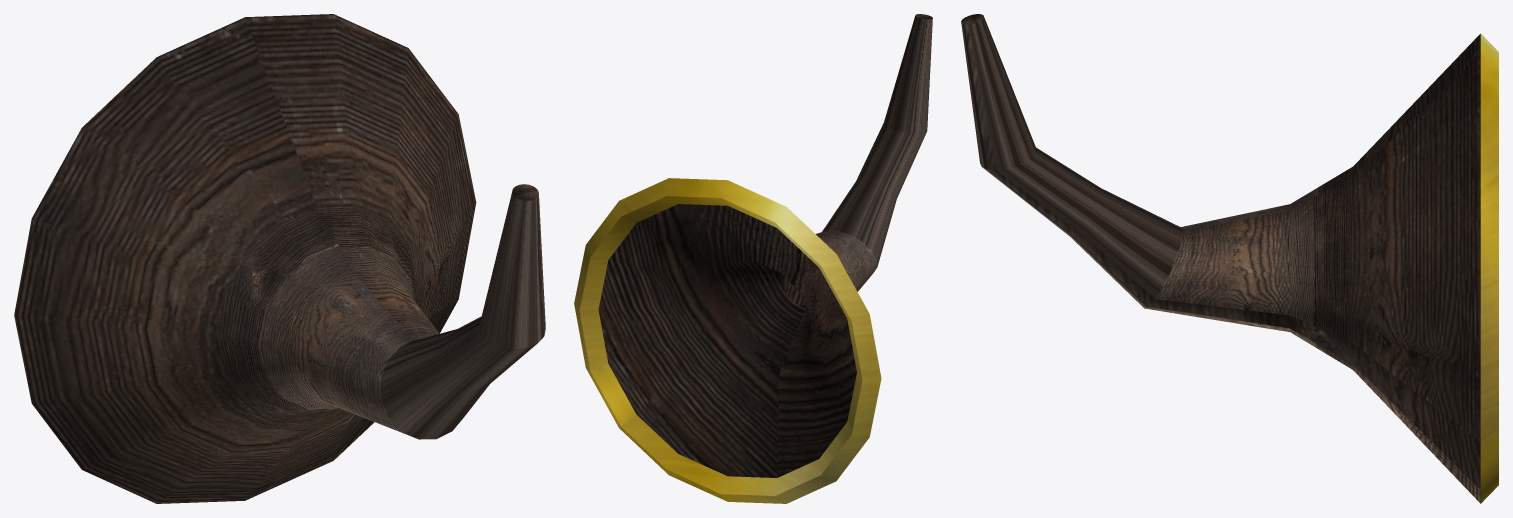
File: perifono.fbx
3 views of the same model, side by side, from view 1: azimuth 30°, elevation 25°; view 2: azimuth 150°, elevation 25°; view 3: azimuth 270°, elevation 25° (orthographic). The views are drawn at different scales.
Visible parts, largest first — view 1: Cylinder; view 2: Cylinder; view 3: Cylinder.
Boxes of the visible parts, bbox=[...] form: Cylinder: bbox=[14, 14, 545, 503]; Cylinder: bbox=[574, 14, 932, 503]; Cylinder: bbox=[961, 14, 1498, 503].
Size of the model in its own units: 277 by 300 by 316.
